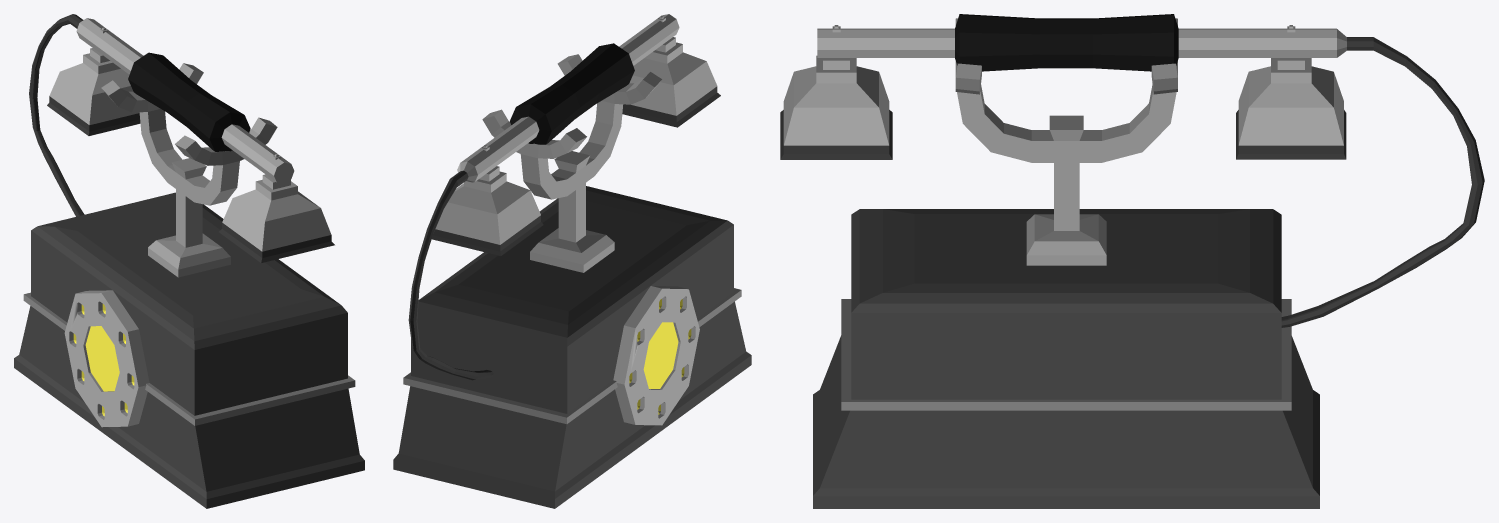
The model's file is Telephone.fbx.
The picture shows the model from 3 angles, left to right: view 1: azimuth 30°, elevation 25°; view 2: azimuth 150°, elevation 25°; view 3: azimuth 270°, elevation 25°; orthographic projection. The views are drawn at different scales.
Parts seen in each view (by area): view 1: Node 0; view 2: Node 0; view 3: Node 0.
Boxes of the visible parts, x1,y1,x2,y2 form: Node 0: (14, 14, 364, 508); Node 0: (393, 14, 751, 508); Node 0: (780, 14, 1484, 508).
Size of the model in its own units: 0.141 by 0.2698 by 0.3887.
